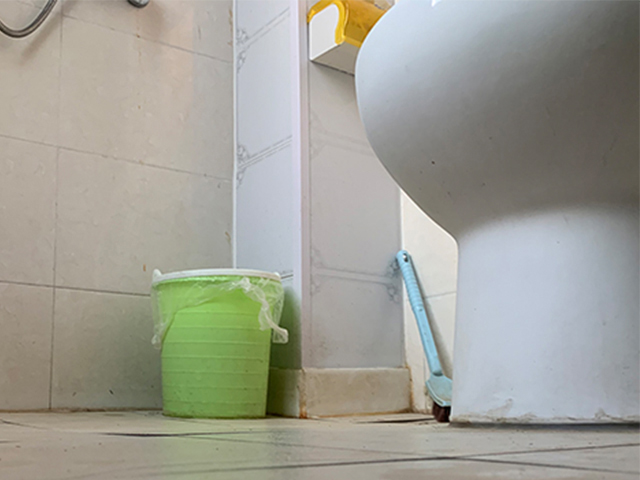closestool: (353, 1, 640, 427)
trashcan: (150, 267, 283, 420)
